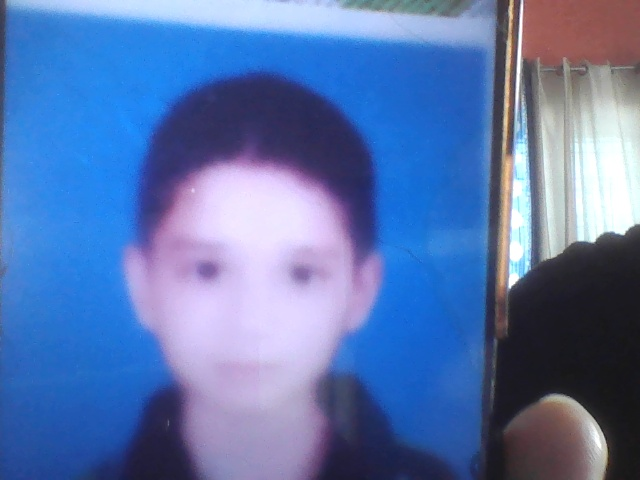fake: (132, 85, 384, 442)
